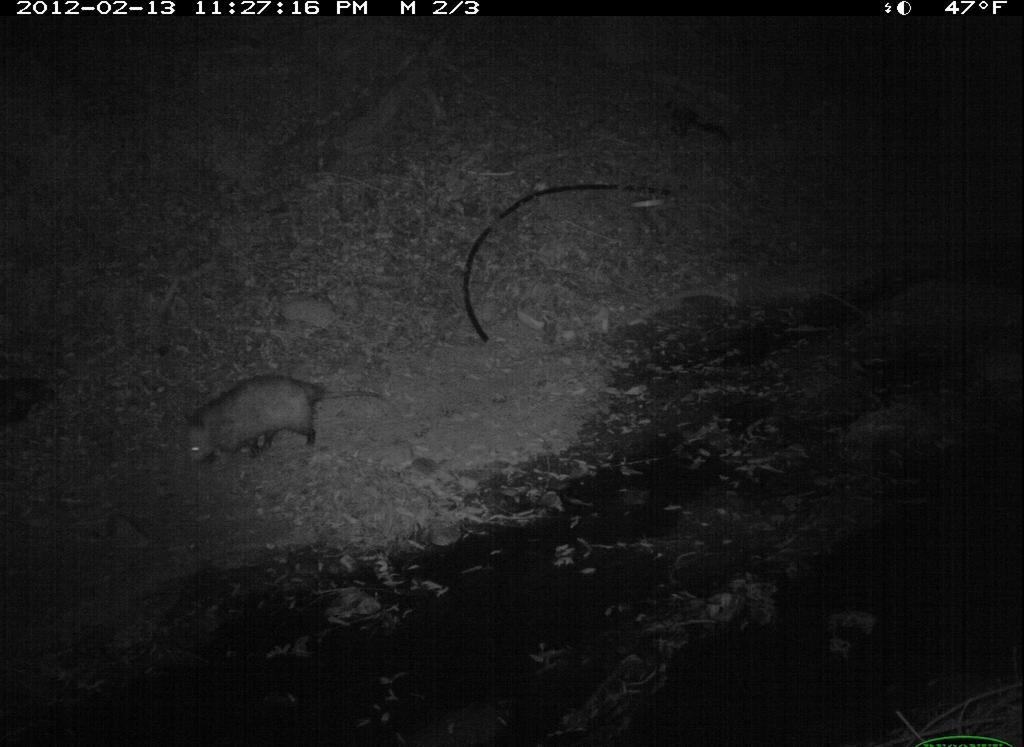opossum: (175, 372, 390, 486)
